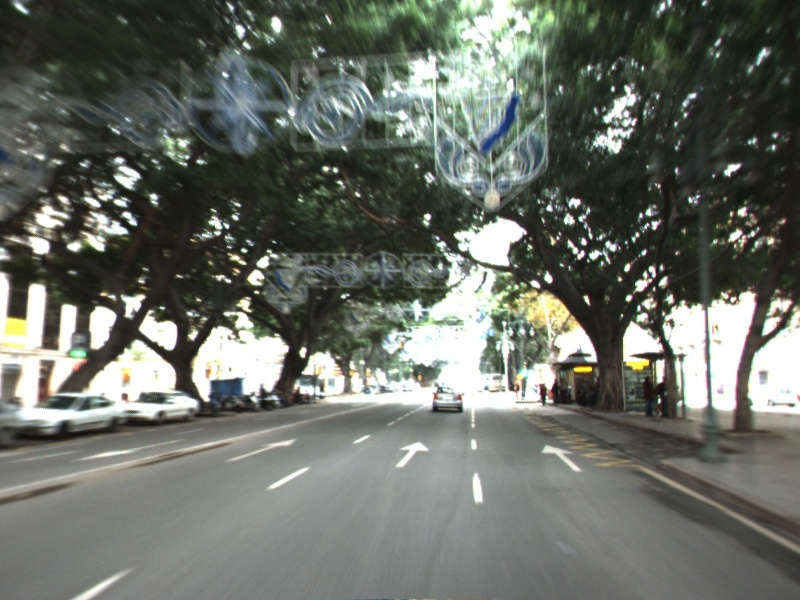STRAIGHT: (223, 436, 300, 464), (538, 442, 587, 474), (393, 439, 431, 469)
